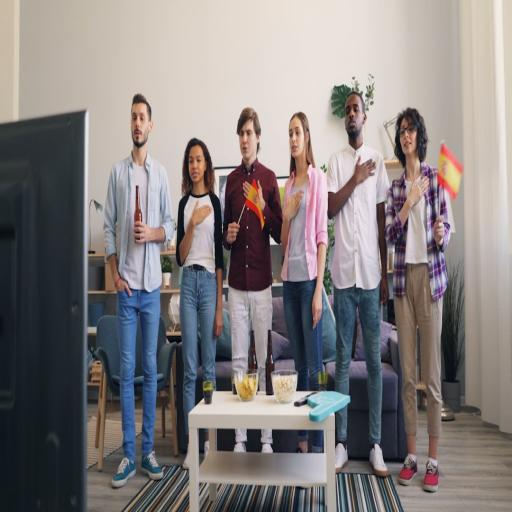face: (185, 145, 206, 186), (132, 103, 150, 146), (238, 122, 256, 160), (395, 123, 418, 152), (288, 121, 305, 159), (345, 99, 362, 133)
